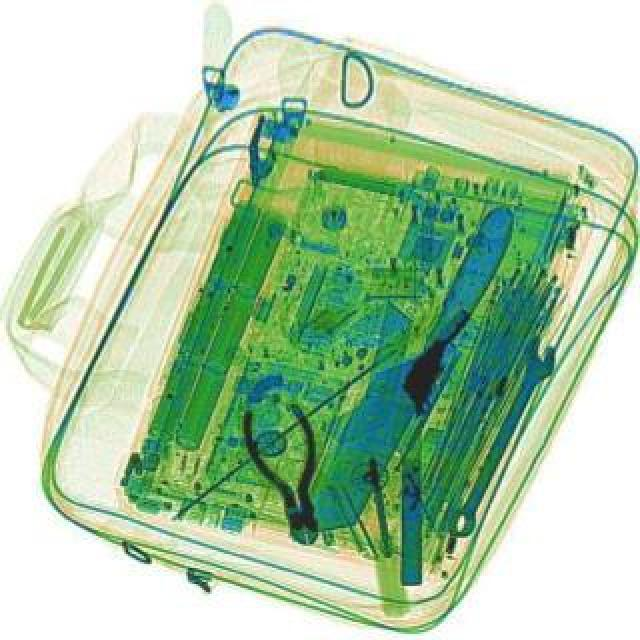knife: (284, 178, 522, 544), (354, 296, 430, 584)
scissors: (436, 330, 566, 542)
wrench: (236, 398, 340, 550)
